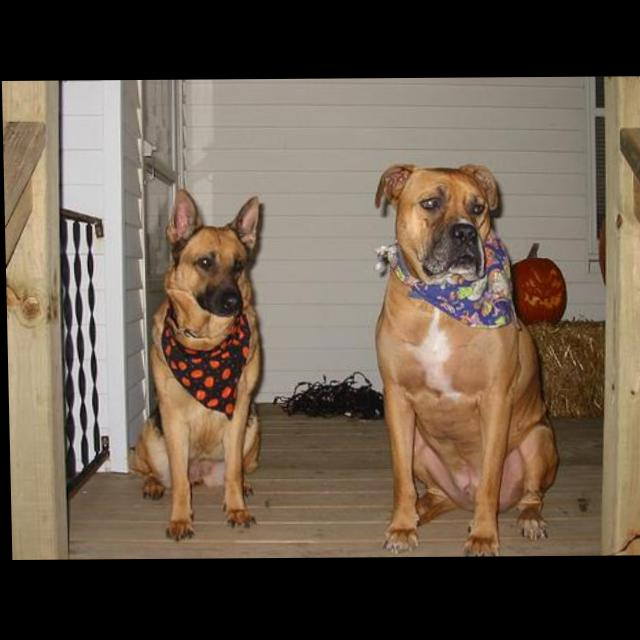bullmastiff: (369, 161, 559, 558)
other_dog_breed: (123, 187, 269, 542)
